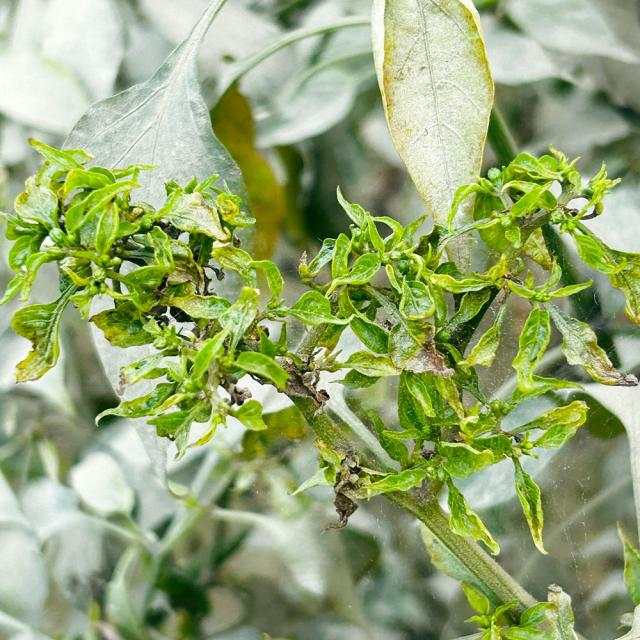Chilli_Leaf_Curl: (1, 1, 638, 636), (1, 136, 291, 460), (369, 0, 496, 235)
